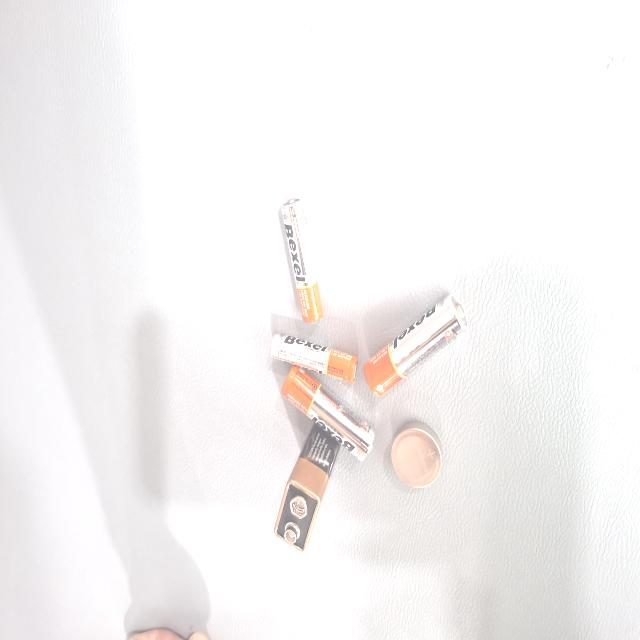9V: (316, 396, 412, 486)
AA: (221, 229, 295, 367), (274, 354, 345, 479)
AAA: (150, 424, 242, 482), (250, 377, 289, 492)
COIN: (314, 264, 368, 334)
